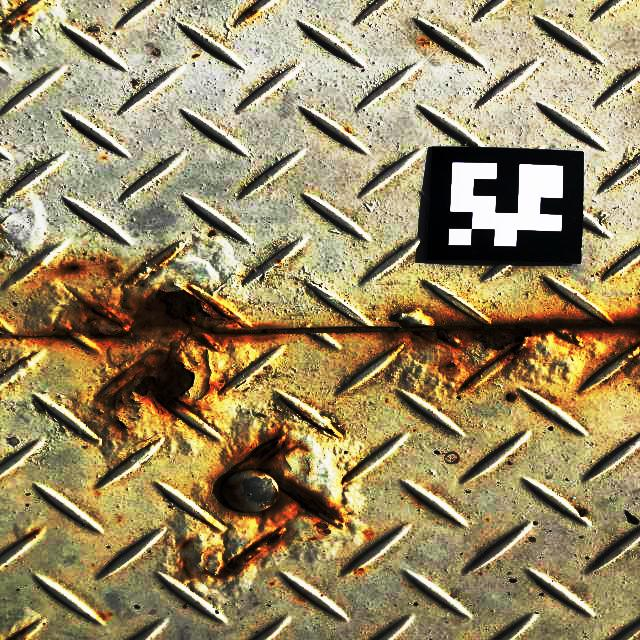Corrosion: (50, 288, 267, 430), (218, 435, 343, 585), (414, 318, 640, 362), (438, 359, 466, 380), (55, 261, 82, 281), (240, 7, 261, 19), (15, 5, 33, 15)
